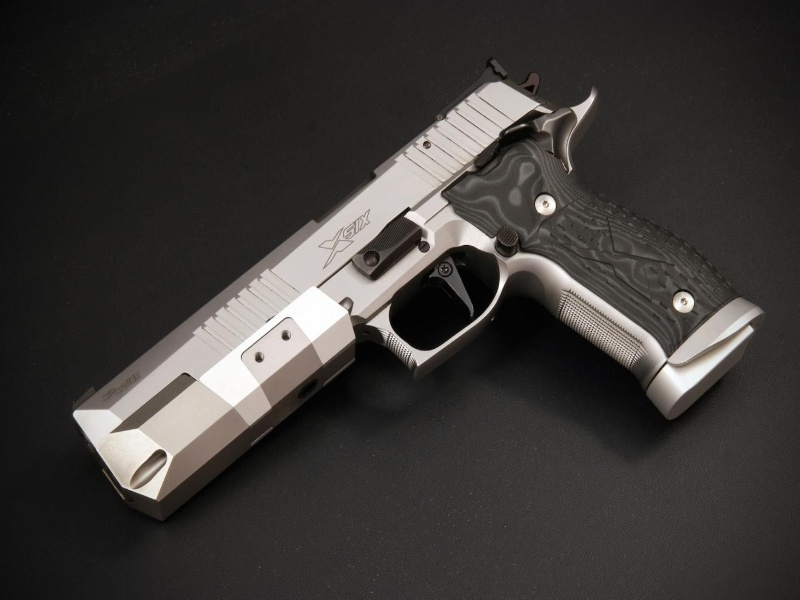gun: (54, 60, 766, 526)
